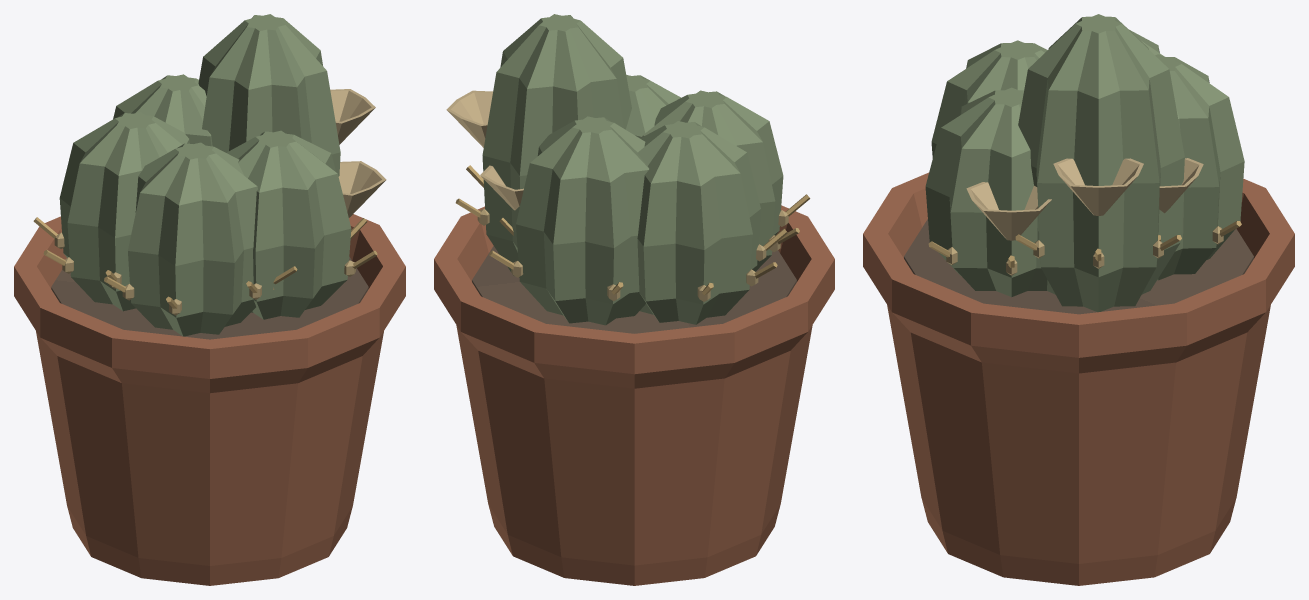
The model's file is new-minuscula.glb.
3 renders of one model, left to right at view 1: azimuth 30°, elevation 25°; view 2: azimuth 150°, elevation 25°; view 3: azimuth 270°, elevation 25°, orthographic. The views are drawn at different scales.
Parts seen in each view (by area): view 1: new-minuscula/review-terra-vessel, new-minuscula/ribbed-stem-046, new-minuscula/ribbed-stem-061, new-minuscula/ribbed-stem-001, new-minuscula/ribbed-stem-031, new-minuscula/review-rooted-soil, new-minuscula/ribbed-stem-016, new-minuscula/hollow-corolla-074, new-minuscula/hollow-corolla-014; view 2: new-minuscula/review-terra-vessel, new-minuscula/ribbed-stem-016, new-minuscula/ribbed-stem-031, new-minuscula/ribbed-stem-001, new-minuscula/ribbed-stem-046, new-minuscula/review-rooted-soil, new-minuscula/ribbed-stem-061, new-minuscula/hollow-corolla-014, new-minuscula/hollow-corolla-029; view 3: new-minuscula/review-terra-vessel, new-minuscula/ribbed-stem-001, new-minuscula/ribbed-stem-061, new-minuscula/ribbed-stem-016, new-minuscula/review-rooted-soil, new-minuscula/ribbed-stem-046, new-minuscula/hollow-corolla-014, new-minuscula/hollow-corolla-074, new-minuscula/hollow-corolla-029.
Boxes of the visible parts, box(x1,y1,x2,y2) form: new-minuscula/review-terra-vessel: box(14, 214, 405, 585); new-minuscula/ribbed-stem-046: box(128, 142, 257, 336); new-minuscula/ribbed-stem-061: box(226, 130, 351, 319); new-minuscula/ribbed-stem-001: box(198, 14, 340, 176); new-minuscula/ribbed-stem-031: box(59, 112, 189, 311); new-minuscula/review-rooted-soil: box(51, 257, 368, 339); new-minuscula/ribbed-stem-016: box(113, 74, 212, 146); new-minuscula/hollow-corolla-074: box(338, 161, 386, 217); new-minuscula/hollow-corolla-014: box(330, 89, 375, 144); new-minuscula/review-terra-vessel: box(434, 205, 834, 585); new-minuscula/ribbed-stem-016: box(516, 116, 648, 325); new-minuscula/ribbed-stem-031: box(637, 121, 760, 324); new-minuscula/ribbed-stem-001: box(482, 14, 631, 277); new-minuscula/ribbed-stem-046: box(642, 90, 783, 271); new-minuscula/review-rooted-soil: box(472, 246, 796, 333); new-minuscula/ribbed-stem-061: box(626, 75, 680, 138); new-minuscula/hollow-corolla-014: box(446, 90, 492, 147); new-minuscula/hollow-corolla-029: box(480, 165, 523, 210); new-minuscula/review-terra-vessel: box(863, 172, 1294, 585); new-minuscula/ribbed-stem-001: box(1018, 14, 1184, 312); new-minuscula/ribbed-stem-061: box(925, 87, 1047, 296); new-minuscula/ribbed-stem-016: box(1155, 54, 1244, 280); new-minuscula/review-rooted-soil: box(904, 219, 1253, 314); new-minuscula/ribbed-stem-046: box(931, 40, 1047, 158); new-minuscula/hollow-corolla-014: box(1053, 158, 1143, 215); new-minuscula/hollow-corolla-074: box(966, 182, 1051, 240); new-minuscula/hollow-corolla-029: box(1159, 158, 1203, 213).
Size of the model in its own units: 0.19 by 0.2586 by 0.19.
Materials: 7 (7 with a texture image).
